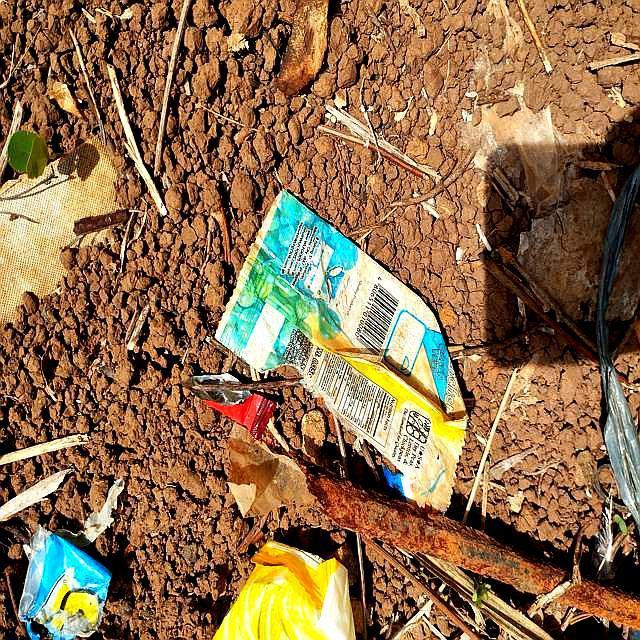Non-biodegradable: (210, 187, 471, 513), (211, 537, 359, 640), (18, 527, 113, 640)
